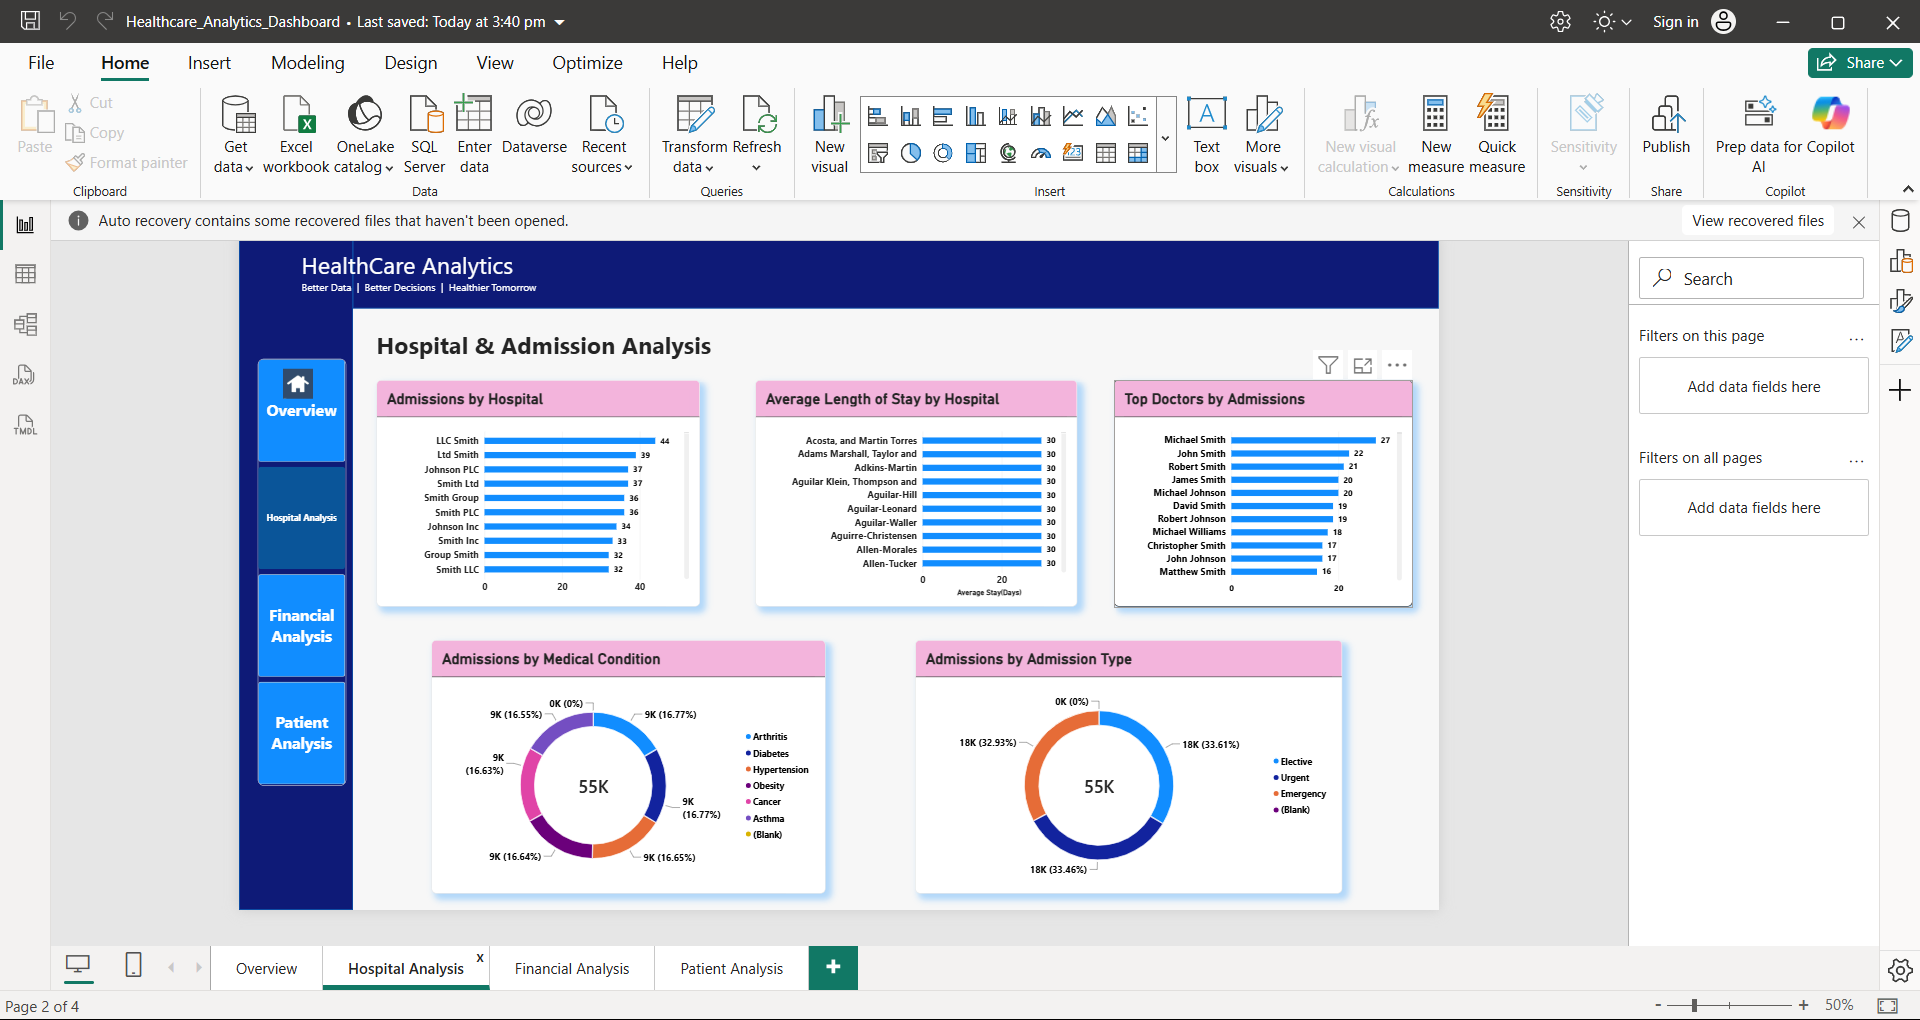

Layout of this report page (visuals, bound fields, positions):
{"tool":"powerbi","page":{"name":"Hospital Analysis","canvas":[1920,1080],"ordinal":1},"visuals":[{"type":"shape","box":[0,0,182.5,1080],"z":0},{"type":"textbox","box":[220,150,587.5,65],"z":5000},{"type":"shape","box":[182.5,0,1737.5,117.5],"z":6000},{"type":"textbox","box":[100,22.5,387.5,50],"z":7000},{"type":"textbox","box":[100,72.5,412.5,45],"z":8000},{"type":"clusteredBarChart","title":"Admissions by Hospital","fields":{"Category":["dim_Hospital.Hospital"],"Y":["dim_AdmissionType.Total Admissions"]},"box":[220,232.5,517.5,362.5],"z":9000},{"type":"clusteredBarChart","title":"Average Length of Stay by Hospital","fields":{"Category":["dim_Hospital.Hospital"],"Y":["dim_AdmissionType.Average Length of Stay"]},"box":[825,232.5,515,362.5],"z":10000},{"type":"clusteredBarChart","title":"Top Doctors by Admissions","fields":{"Category":["dim_Doctor.Doctor"],"Y":["dim_AdmissionType.Total Admissions"]},"box":[1399.5,232.5,477.9,362.7],"z":11000},{"type":"donutChart","title":"Admissions by Medical Condition","fields":{"Category":["dim_MedicalCondition.Medical Condition"],"Y":["dim_AdmissionType.Total Admissions"]},"box":[307,648.7,630,405.8],"z":12000},{"type":"donutChart","title":"Admissions by Admission Type","fields":{"Category":["dim_AdmissionType.Admission Type"],"Y":["dim_AdmissionType.Total Admissions"]},"box":[1081.2,648.7,683.4,405.8],"z":13000},{"type":"pageNavigator","box":[29.4,197.6,141.5,683.4],"z":14000},{"type":"image","box":[48.1,213.6,93.4,48.1],"z":14001}]}

Visuals, with their boxes on the page's 1920x1080 design canvas (x1, y1, x2, y2). These are canvas units, not pixel positions in the 1920x1020 screenshot, which may show the page scaled, cropped or inside an application window:
shape: 0/0/182/1080
textbox: 220/150/808/215
shape: 182/0/1920/118
textbox: 100/22/488/72
textbox: 100/72/512/118
"Admissions by Hospital" clusteredBarChart: 220/232/738/595
"Average Length of Stay by Hospital" clusteredBarChart: 825/232/1340/595
"Top Doctors by Admissions" clusteredBarChart: 1400/232/1877/595
"Admissions by Medical Condition" donutChart: 307/649/937/1054
"Admissions by Admission Type" donutChart: 1081/649/1765/1054
pageNavigator: 29/198/171/881
image: 48/214/142/262
